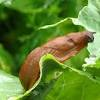slug: (20, 28, 96, 93)
